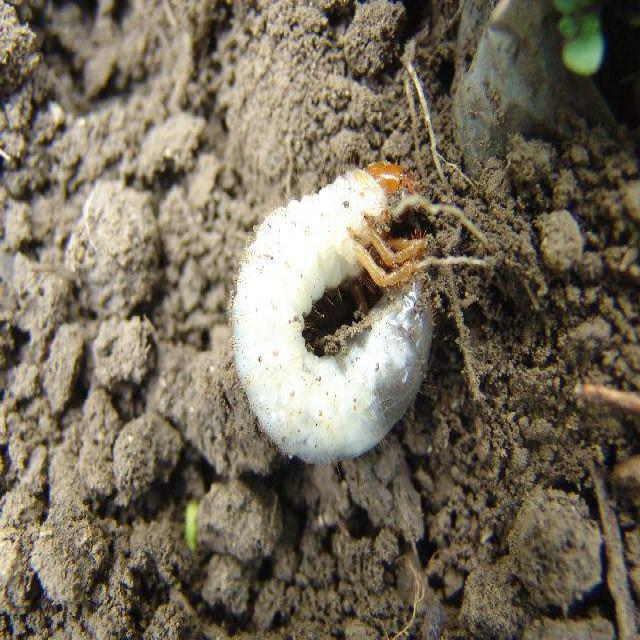Grub-Adult-: (202, 141, 450, 477)
